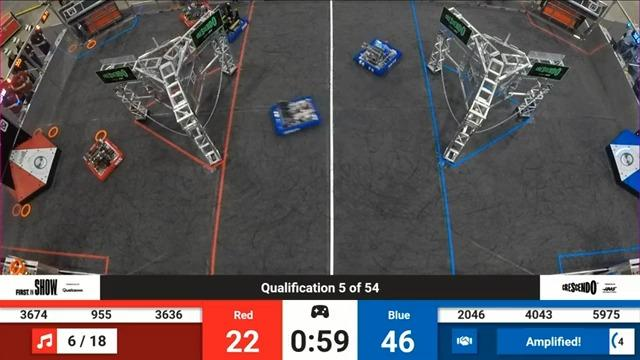robot: (258, 97, 331, 136), (80, 133, 128, 184), (352, 35, 407, 78), (206, 2, 255, 41), (177, 0, 220, 36)
